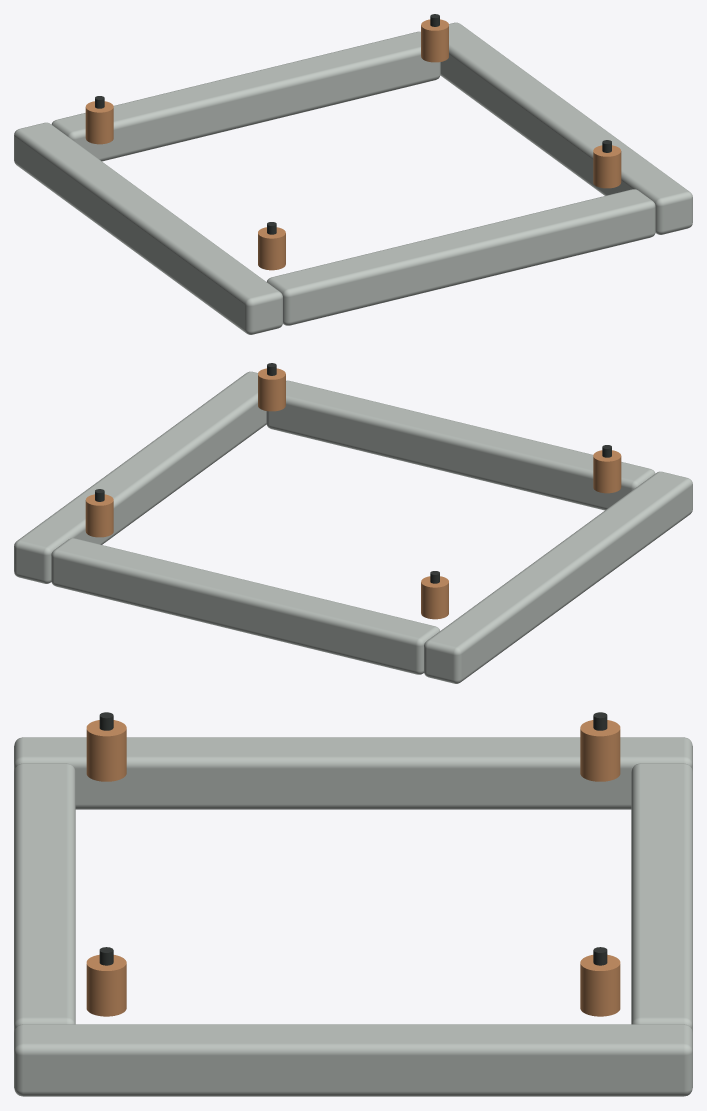
Rendered from spacecraft-thermal-test-chamber-payload-adapter-frame-0d1eeb72__32032.glb.
3 views of the same model, one above another, from view 1: azimuth 30°, elevation 25°; view 2: azimuth 150°, elevation 25°; view 3: azimuth 270°, elevation 25° (orthographic). The views are drawn at different scales.
Visible parts, largest first — view 1: payload-adapter-frame; view 2: payload-adapter-frame; view 3: payload-adapter-frame.
Boxes of the visible parts, left/top/right/bottom form: payload-adapter-frame: left=14, top=14, right=692, bottom=334; payload-adapter-frame: left=14, top=363, right=692, bottom=683; payload-adapter-frame: left=14, top=712, right=692, bottom=1096.
Size of the model in its own units: 0.96 by 0.158 by 0.88.
